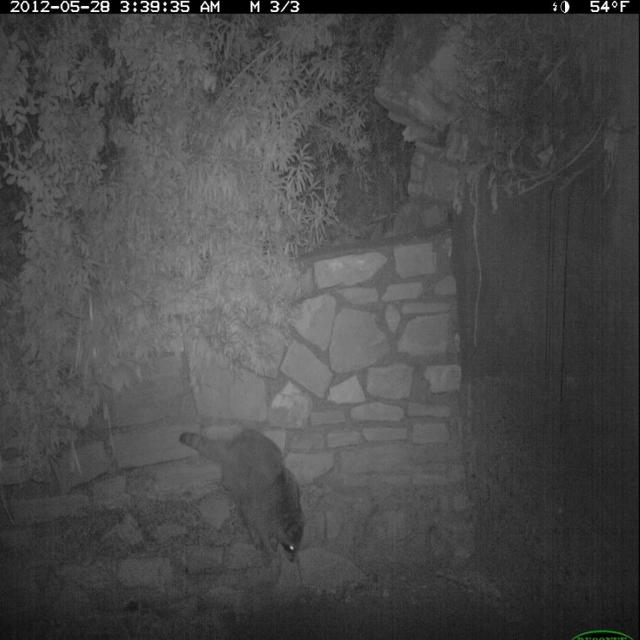raccoon: (174, 424, 311, 575)
